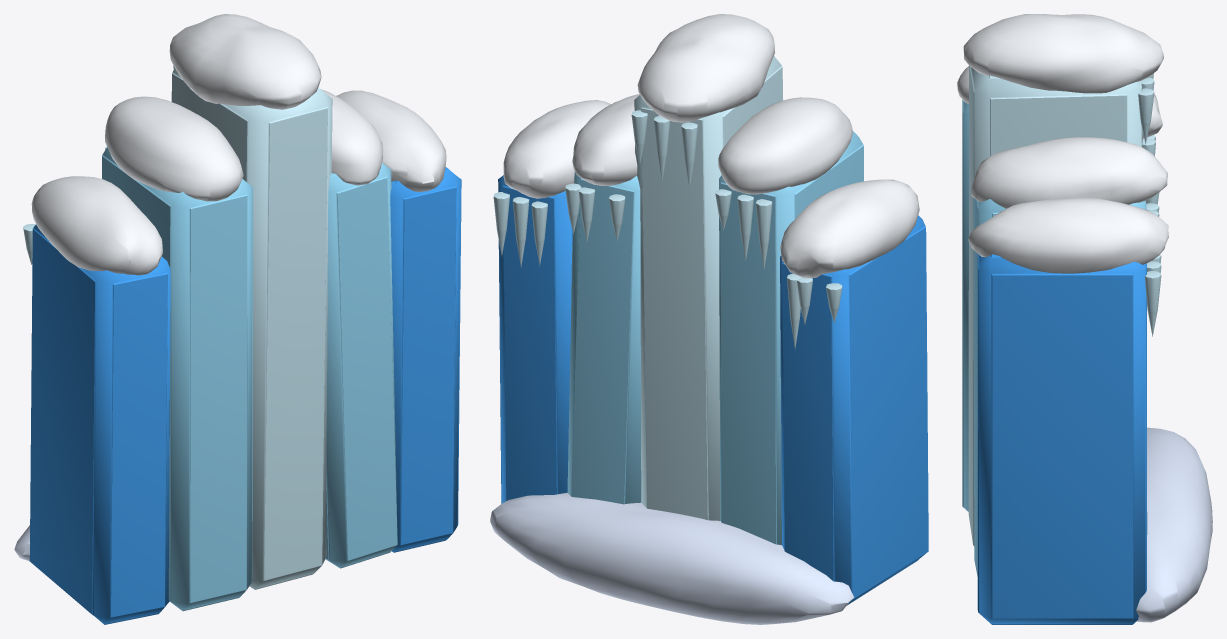
File: IceCliffC.glb
The picture shows the model from 3 angles, left to right: view 1: azimuth 30°, elevation 25°; view 2: azimuth 150°, elevation 25°; view 3: azimuth 270°, elevation 25°; orthographic projection. The views are drawn at different scales.
Visible parts, largest first — view 1: IceCliffC; view 2: IceCliffC; view 3: IceCliffC.
Part boxes in pixels (x1,y1,x2,y2): IceCliffC: (14,14,461,624); IceCliffC: (490,14,928,624); IceCliffC: (957,14,1212,624).
Bounding box in the file's own units: 30.7 × 43.1 × 18.12.
Materials: 1 (1 with a texture image).
